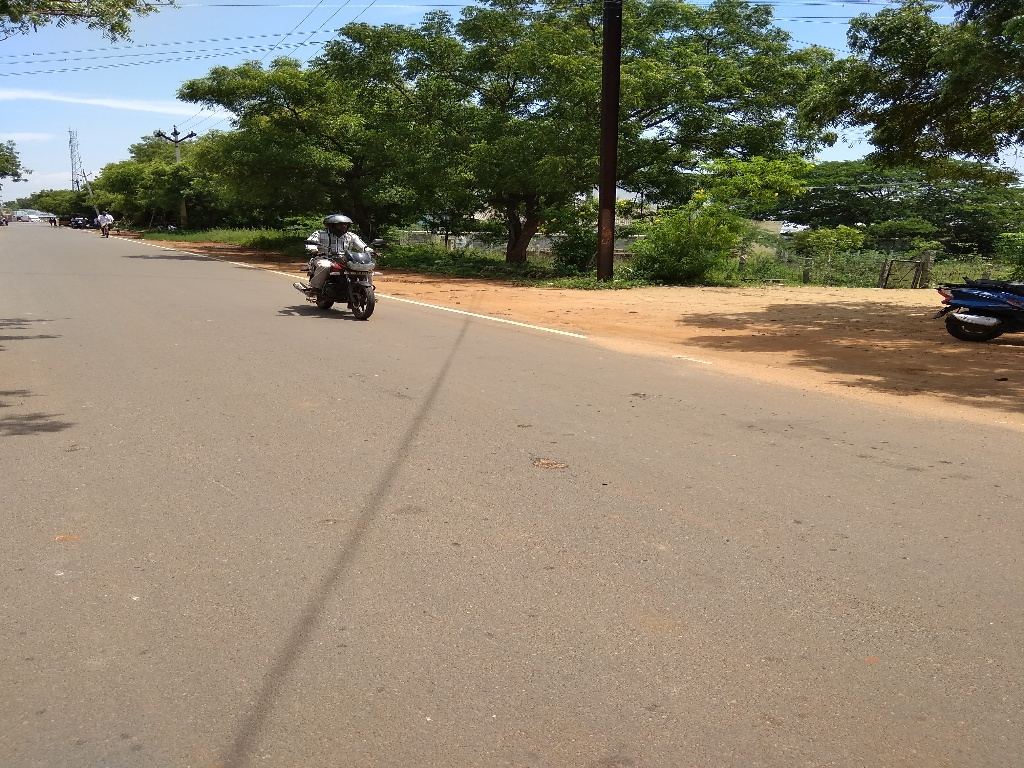biker: (281, 175, 397, 326)
helmet: (317, 198, 363, 244)
